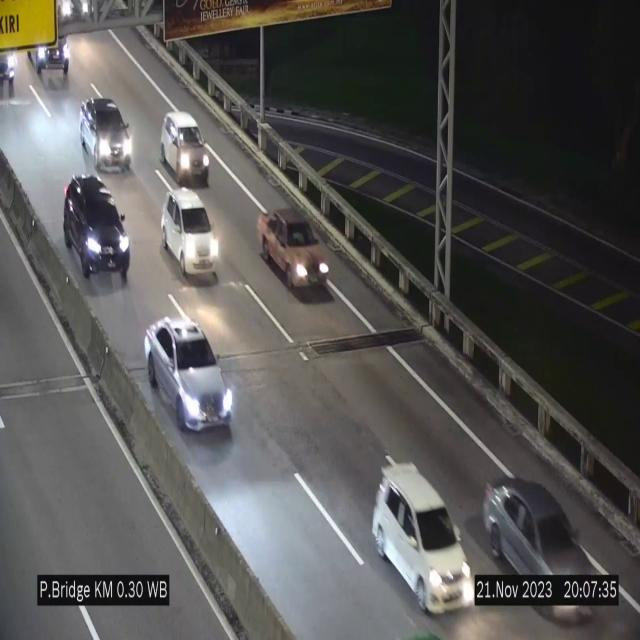Car: (483, 480, 596, 620), (372, 462, 470, 614), (144, 318, 234, 432), (64, 176, 130, 282), (257, 199, 331, 293), (161, 188, 219, 280), (79, 97, 132, 174), (160, 111, 210, 185), (25, 13, 75, 82), (0, 41, 22, 90)
